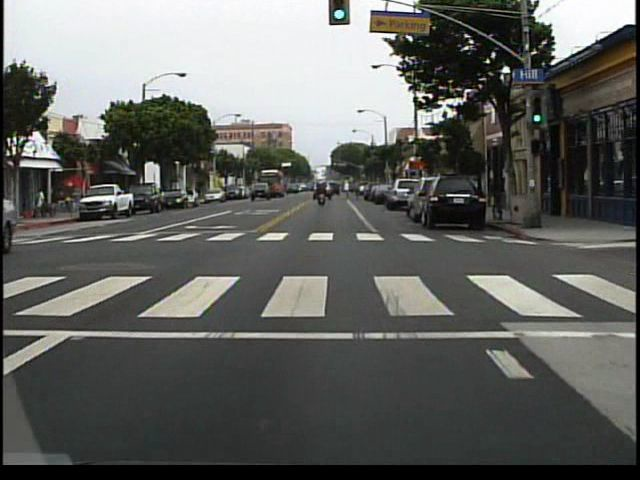person: (35, 183, 50, 220), (315, 184, 328, 211)
